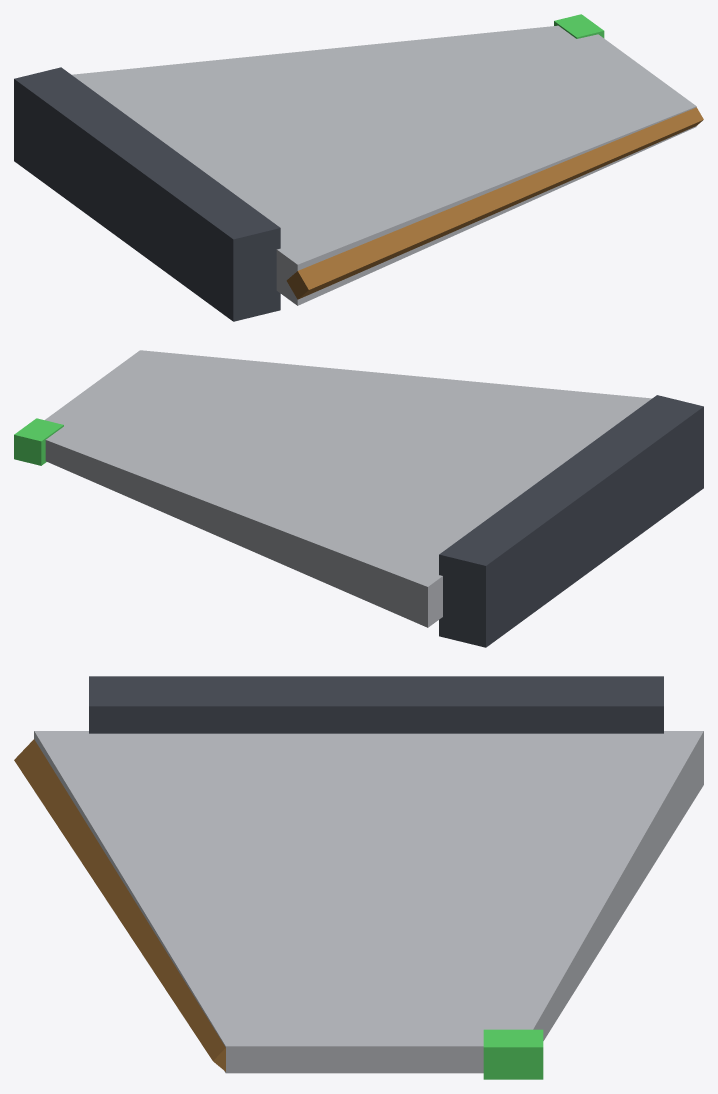
File: ship_wing.obj
3 views of the same model, one above another, from view 1: azimuth 30°, elevation 25°; view 2: azimuth 150°, elevation 25°; view 3: azimuth 270°, elevation 25° (orthographic). The views are drawn at different scales.
Visible parts, largest first — view 1: skin, root, leading_edge, tip_light; view 2: skin, root, tip_light; view 3: skin, root, leading_edge, tip_light.
Part boxes in pixels (left/top/right/bottom): skin: left=72, top=25, right=696, bottom=305; root: left=14, top=67, right=280, bottom=321; leading_edge: left=286, top=107, right=703, bottom=299; tip_light: left=554, top=14, right=604, bottom=38; skin: left=45, top=350, right=651, bottom=627; root: left=439, top=395, right=703, bottom=647; tip_light: left=14, top=418, right=63, bottom=465; skin: left=34, top=731, right=703, bottom=1073; root: left=89, top=676, right=663, bottom=733; leading_edge: left=14, top=739, right=225, bottom=1071; tip_light: left=483, top=1029, right=543, bottom=1079.
Size of the model in its own units: 2.65 by 0.44 by 2.32.
